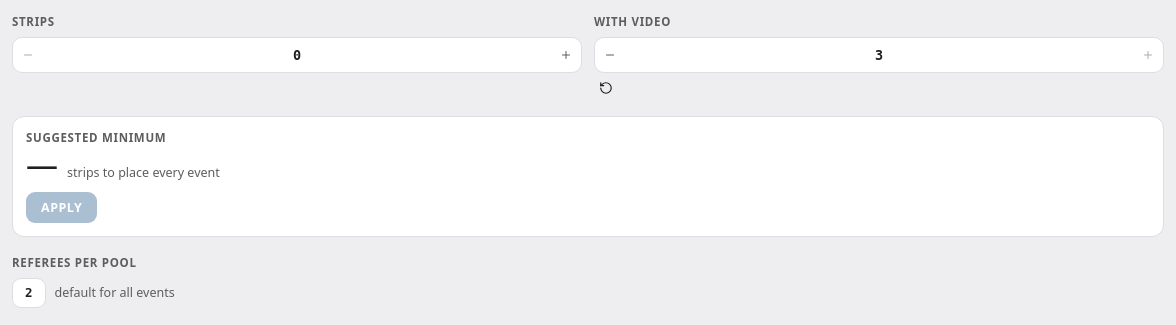
Scenario: StripsPanel — steppers › an explicit video-strips count drops the Default marker and offers a revert back to null (FR-036/037/038)
The image size is (1176, 325).
Expected: the number field named "Number of video strips" holds "3", [625,38,1133,72]
Click the button named "Revert video strips to default" at (606, 88), box [594,78,618,98]
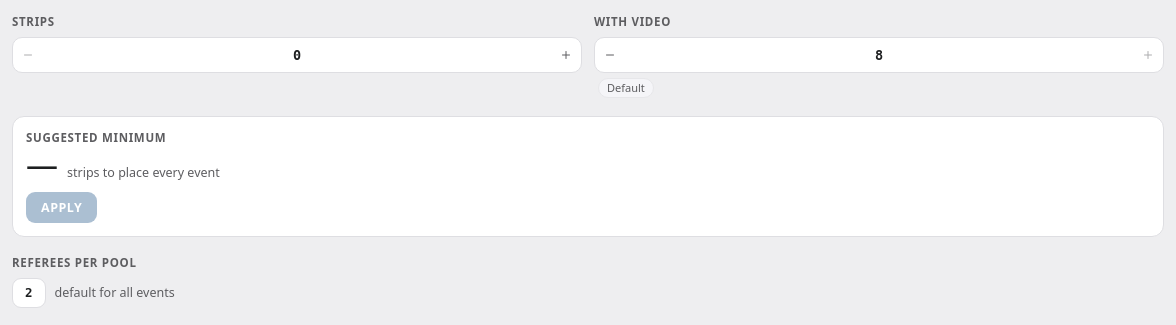
Expected: the number field named "Number of video strips" holds "8", [625,38,1133,72]
Expected: the icon "Default" is shown, [598,78,654,98]
